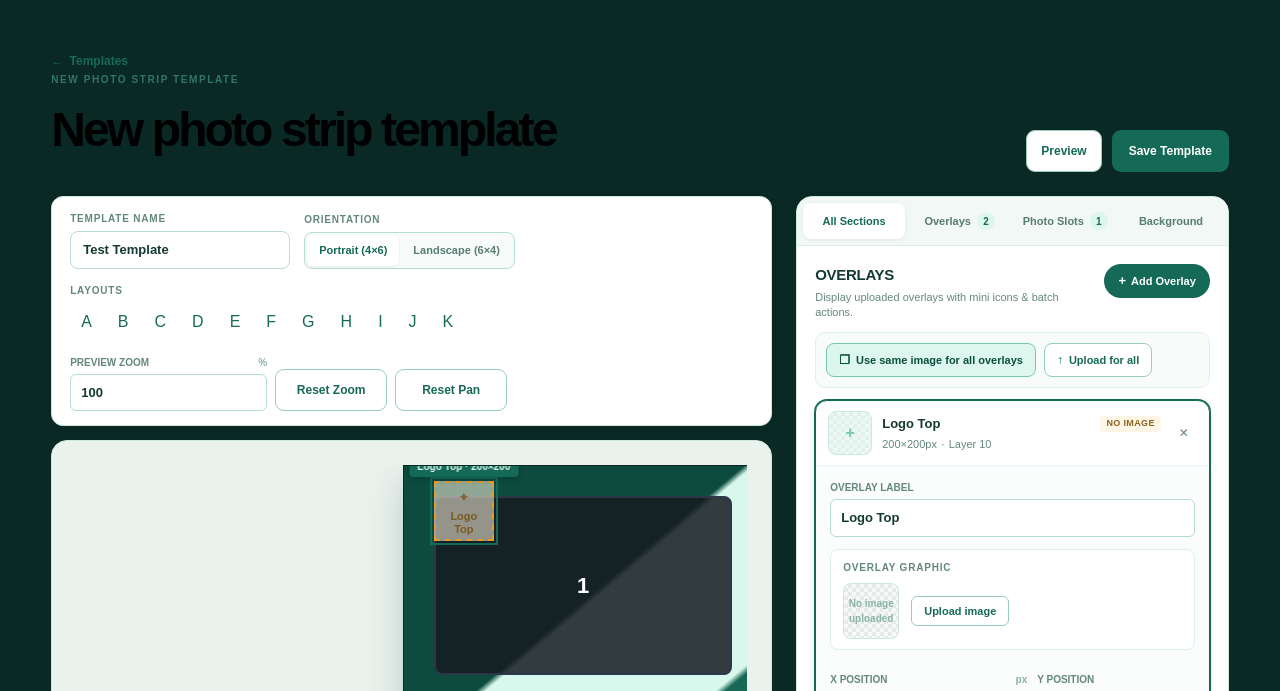
Test: TemplateEditor › can switch tabs to Photo Slots and Background
Click the tab "Photo Slots 1".
click(1065, 221)  # box [1014,203,1116,239]
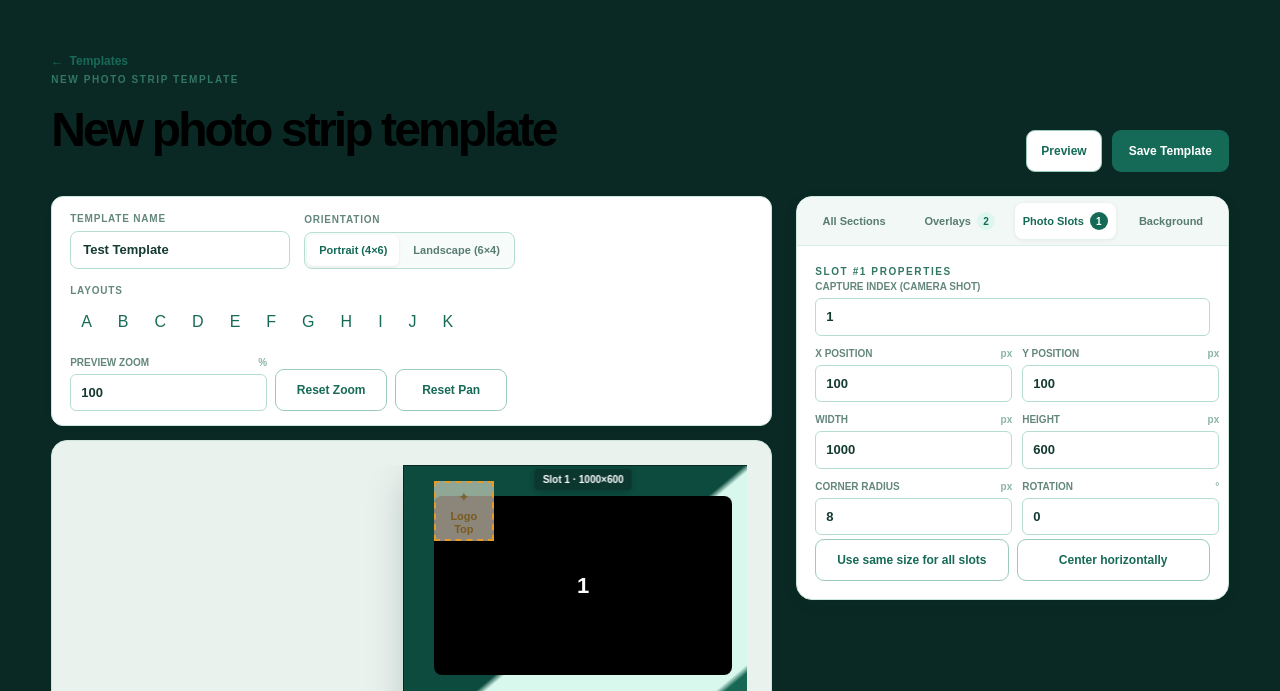
Now the text "SLOT #1 PROPERTIES" is shown, box [815,264,952,279]
Click the tab "Background".
click(1171, 221)  # box [1120,203,1222,239]
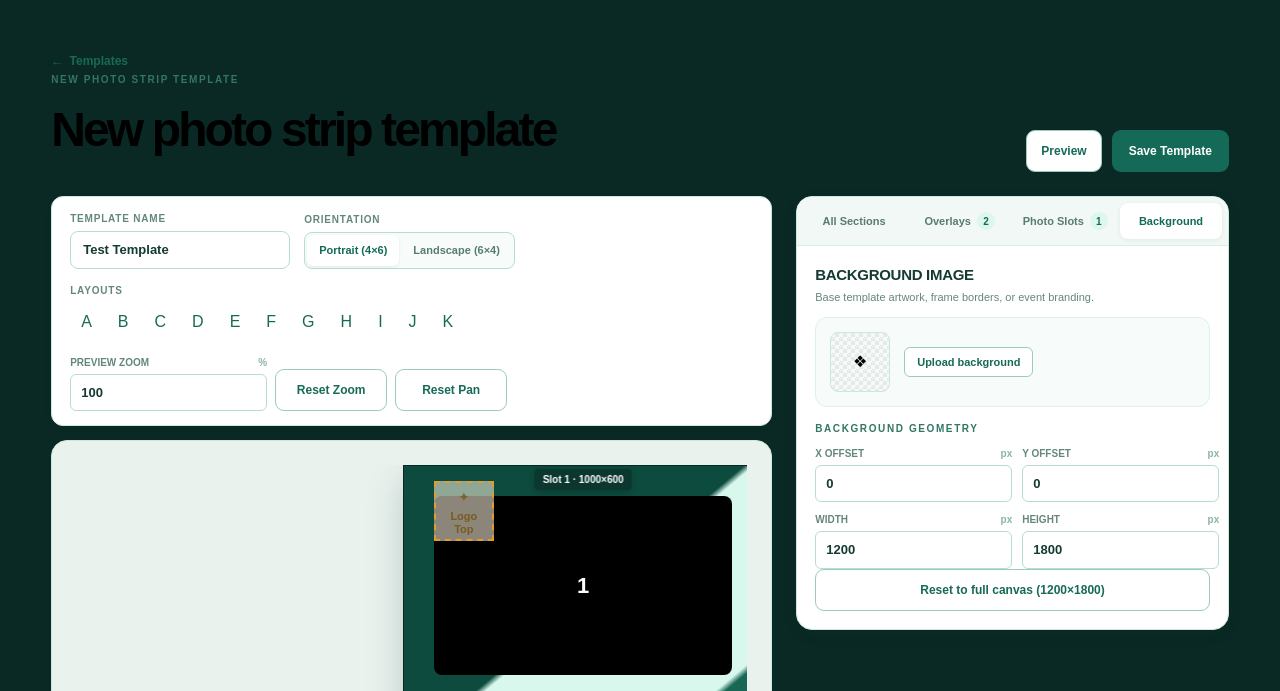
Now the heading "BACKGROUND IMAGE" is shown, box [815,266,974,283]
